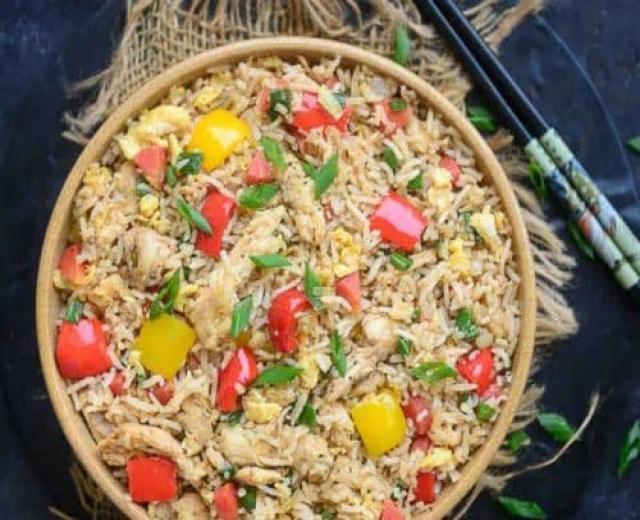fried rice: (50, 58, 523, 519)
